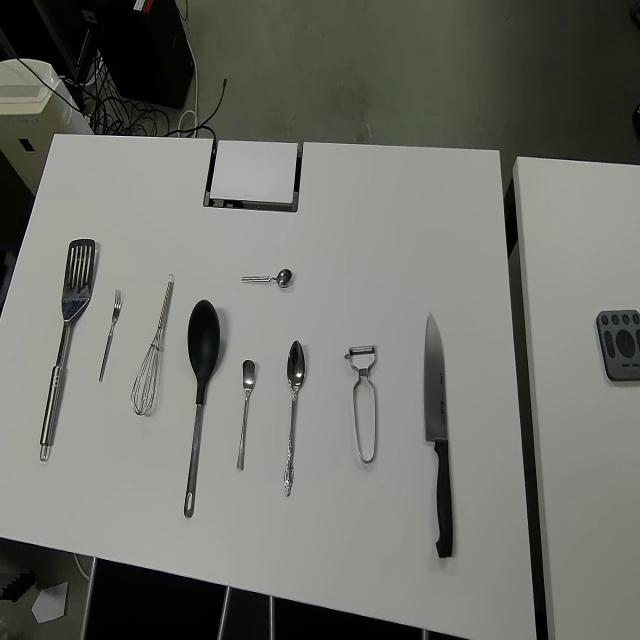Desert-Spoon: (279, 338, 305, 500)
Dinner-Fork: (98, 286, 122, 386)
Kitchen-Knife: (422, 309, 454, 560)
Peeler: (343, 341, 378, 464)
Serving-Spoon: (38, 236, 98, 464), (182, 298, 221, 522)
Tea-Spoon: (236, 358, 257, 470), (240, 265, 294, 289)
Whisk: (130, 272, 176, 416)
